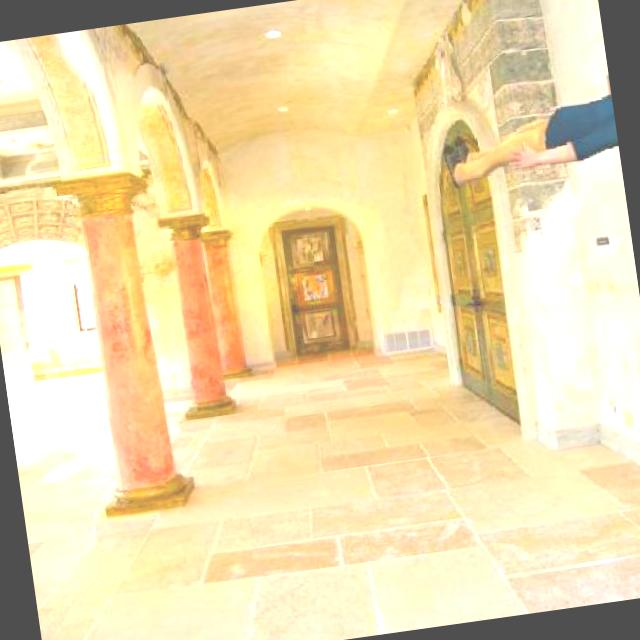Person: (435, 91, 622, 196)
